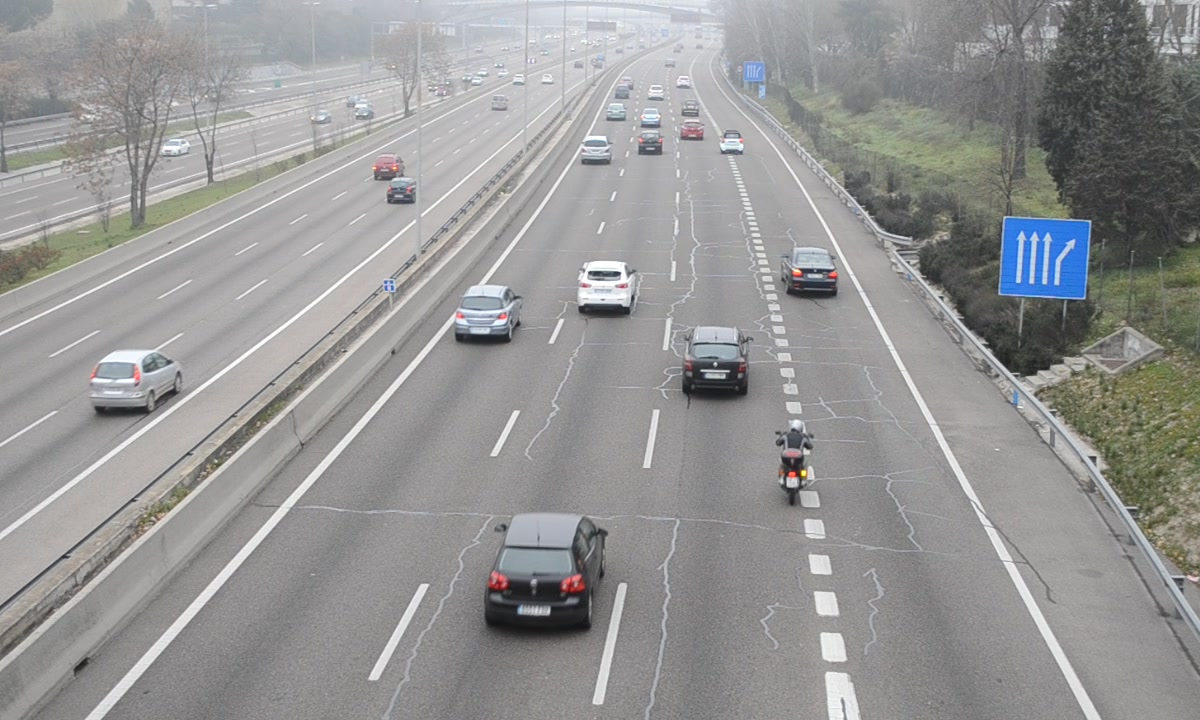car: (485, 515, 604, 627), (682, 326, 751, 395), (454, 285, 520, 337), (576, 261, 637, 311), (782, 248, 837, 292), (581, 134, 612, 166), (719, 129, 743, 156), (639, 130, 663, 157)
motorcycle: (774, 422, 817, 510)
